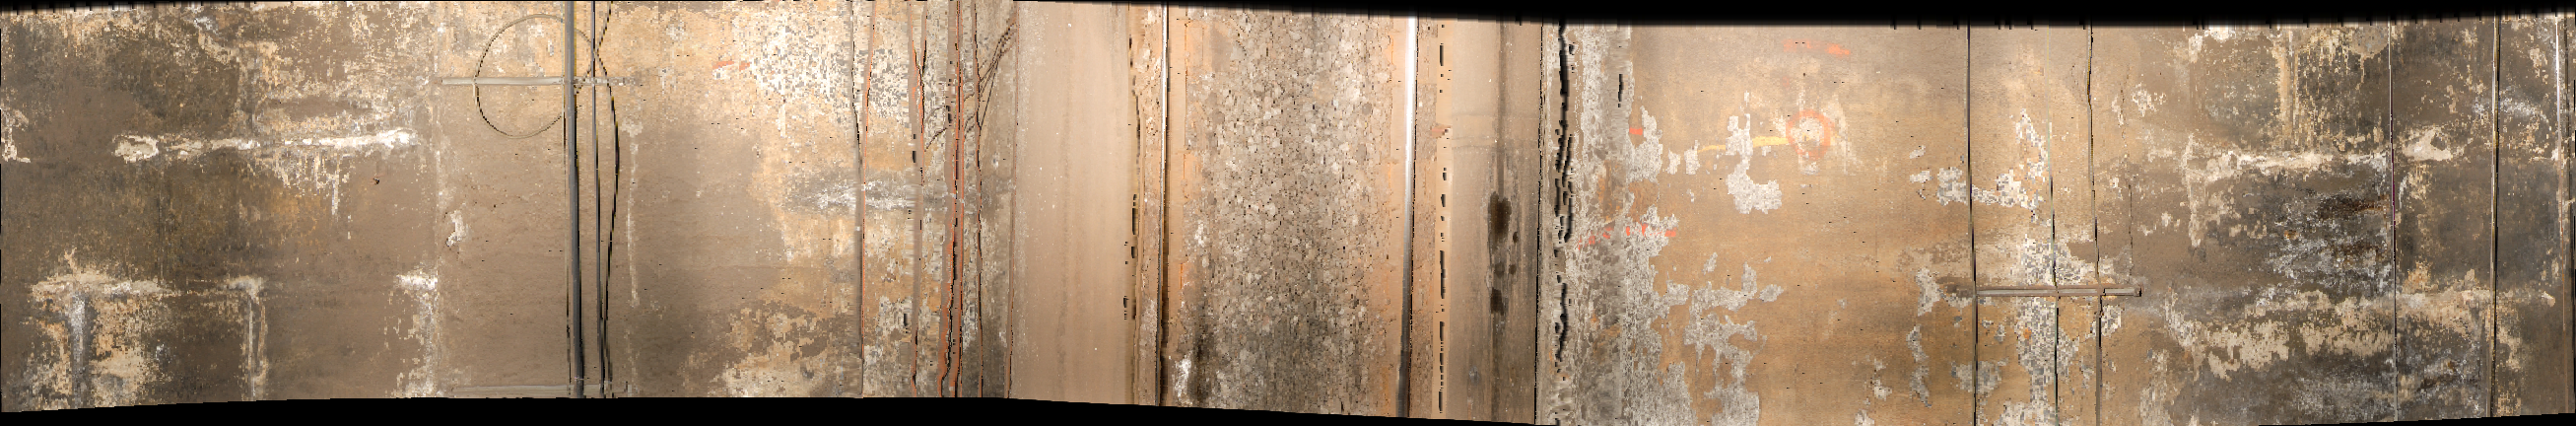pipes: (563, 2, 613, 421), (2377, 20, 2412, 426), (2080, 30, 2111, 426), (1958, 31, 1986, 426), (2489, 16, 2507, 426), (1952, 281, 2146, 306)
tracks: (991, 2, 1566, 426)
